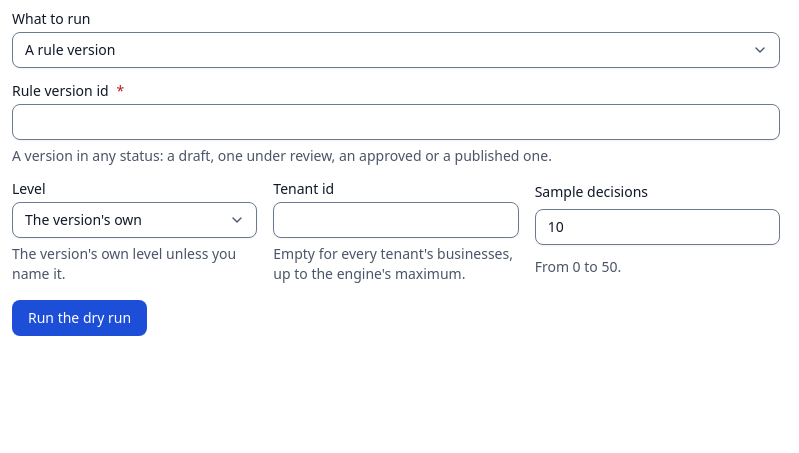
Test: DryRunForm › asks for a specification and its level, keeps the values and shows each field's refusal
Select "A specification no version holds yet" in the dropdown labelled "What to run" at (396, 50), box [12,32,780,68]
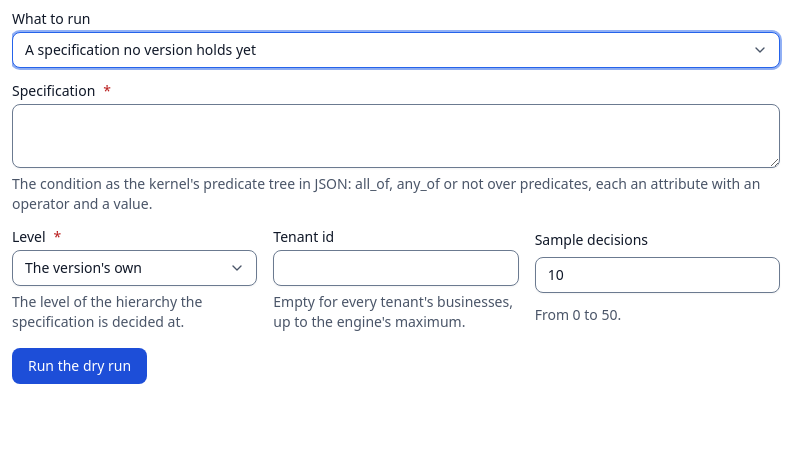
Check: the label labelled "Rule version id" is gone
Click the text box labelled "Specification *".
click(396, 136)  # box [12,104,780,168]
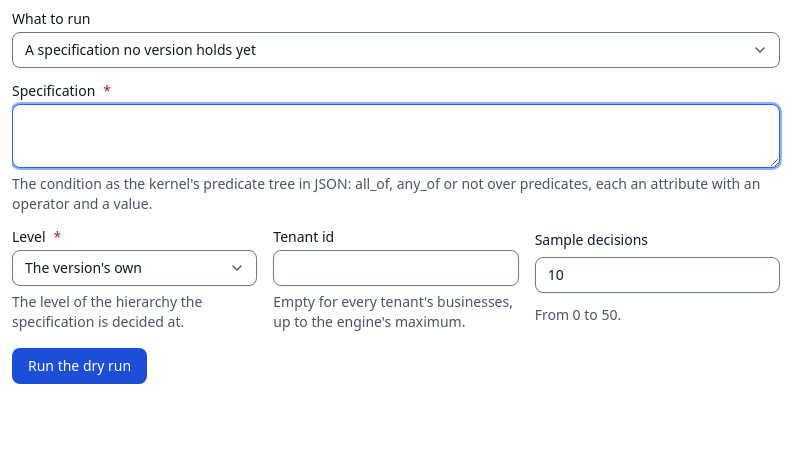
Type keys "{\"attribute\": \"example_kind\"}"
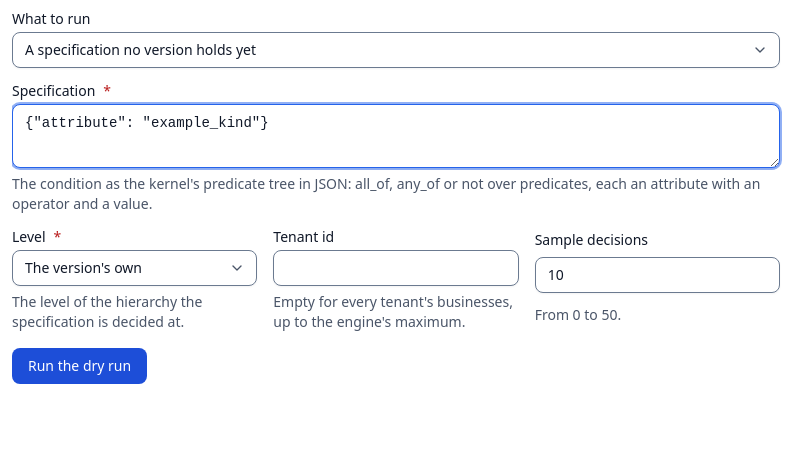
Click the button "Run the dry run".
click(80, 366)  # box [12,348,147,384]
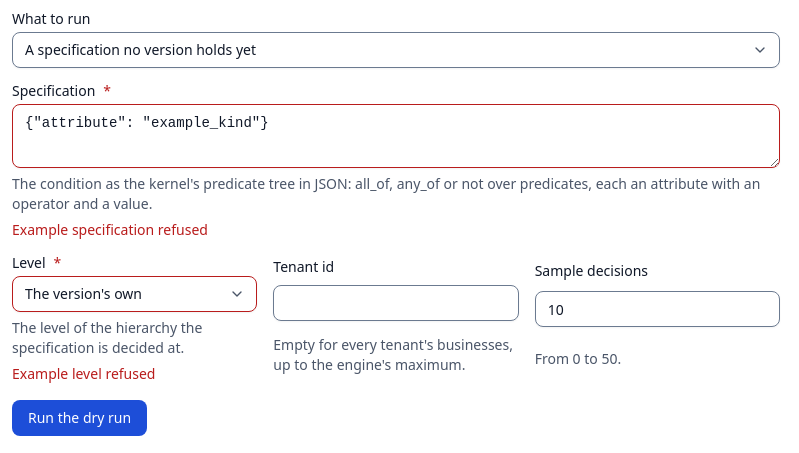
Check: the text box labelled "Specification *" holds "{\"attribute\": \"example_kind\"}", box [12,104,780,168]
Check: the text "Example specification refused" is shown, box [12,220,208,239]
Check: the text "Example level refused" is shown, box [12,364,156,383]
